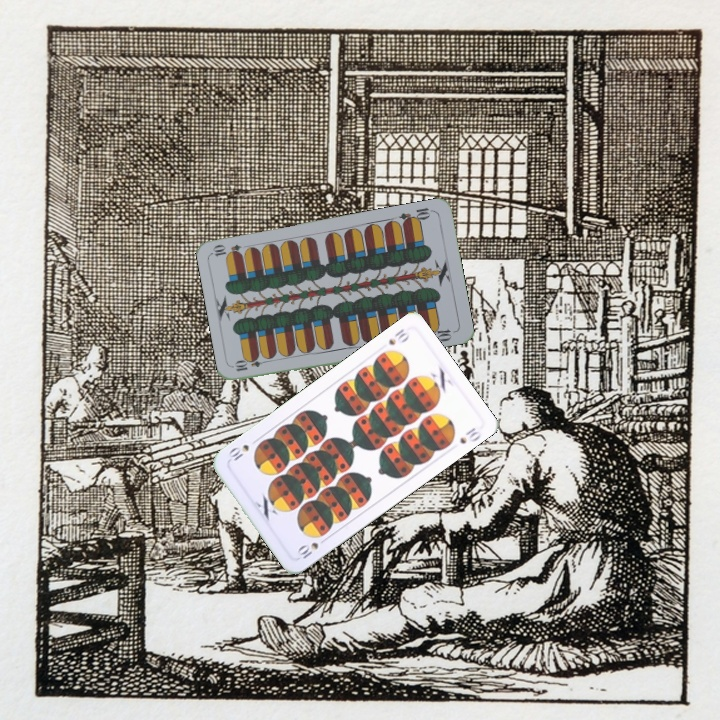E10: (395, 203, 436, 227), (231, 355, 271, 374)
S10: (293, 533, 330, 563), (384, 324, 412, 348)
